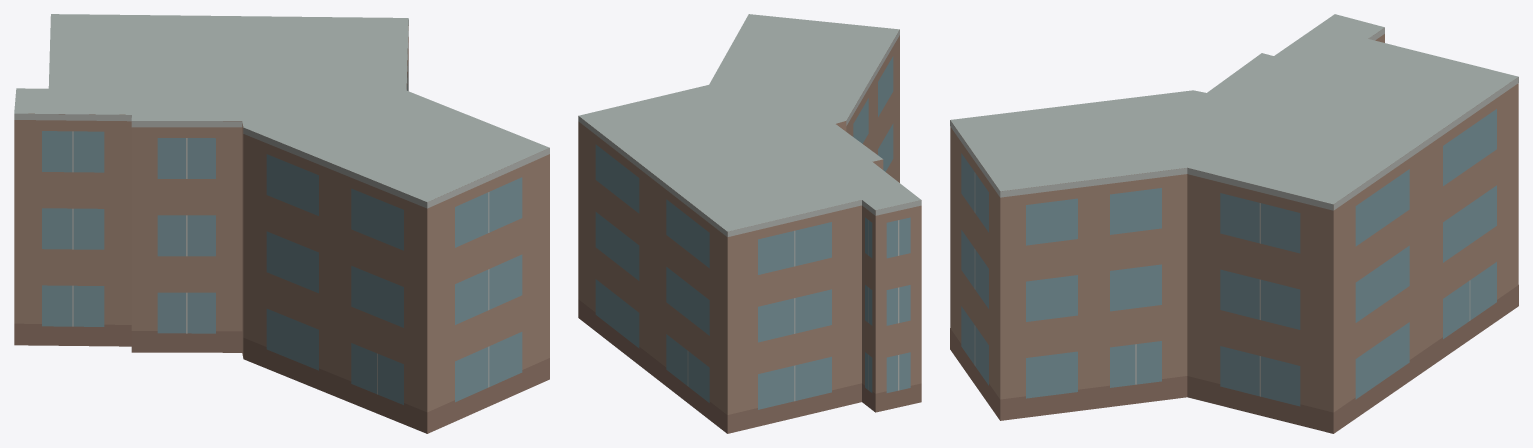
The model's file is survey-upis-32501271.glb.
3 renders of one model, left to right at view 1: azimuth 30°, elevation 25°; view 2: azimuth 150°, elevation 25°; view 3: azimuth 270°, elevation 25°, orthographic. The views are drawn at different scales.
Parts seen in each view (by area): view 1: survey-upis-32501271.tmp; view 2: survey-upis-32501271.tmp; view 3: survey-upis-32501271.tmp.
Part boxes in pixels (box(x1,y1,x2,y2)): survey-upis-32501271.tmp: box(14, 14, 549, 433); survey-upis-32501271.tmp: box(578, 14, 921, 433); survey-upis-32501271.tmp: box(950, 14, 1518, 433).
Bounding box in the file's own units: 15.84 × 8.9 × 19.99.
